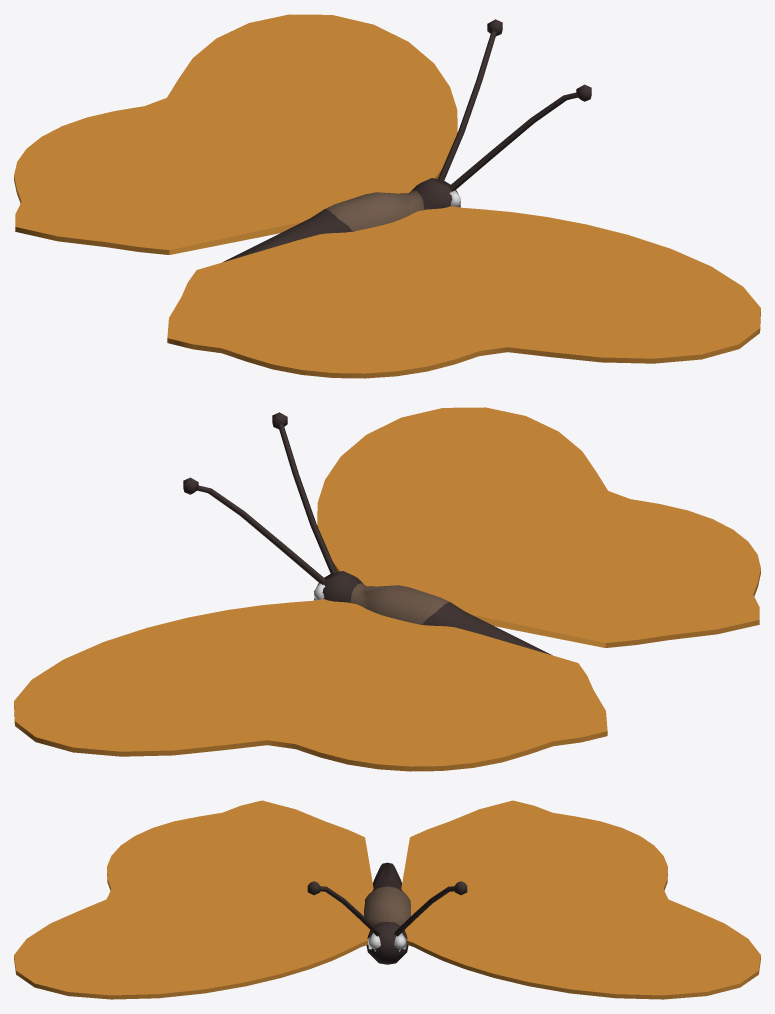
File: Butterfly.fbx
3 renders of one model, top to bottom at view 1: azimuth 30°, elevation 25°; view 2: azimuth 150°, elevation 25°; view 3: azimuth 270°, elevation 25°, orthographic. The views are drawn at different scales.
Visible parts, largest first — view 1: WingR, WingL, Body; view 2: WingL, WingR, Body; view 3: WingR, WingL, Body.
Part boxes in pixels (<box>): WingR: <box>167,206,760,378</box>; WingL: <box>14,14,457,254</box>; Body: <box>222,19,591,262</box>; WingL: <box>14,599,607,771</box>; WingR: <box>317,407,760,647</box>; Body: <box>183,412,552,655</box>; WingR: <box>14,800,373,999</box>; WingL: <box>401,800,760,999</box>; Body: <box>307,862,467,964</box>.
Size of the model in its own units: 0.1388 by 0.0449 by 0.2247.
